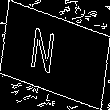N_S: (41, 27, 69, 83)
